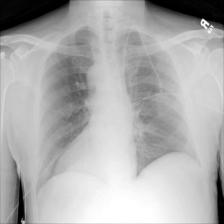normal: (34, 22, 201, 194)
